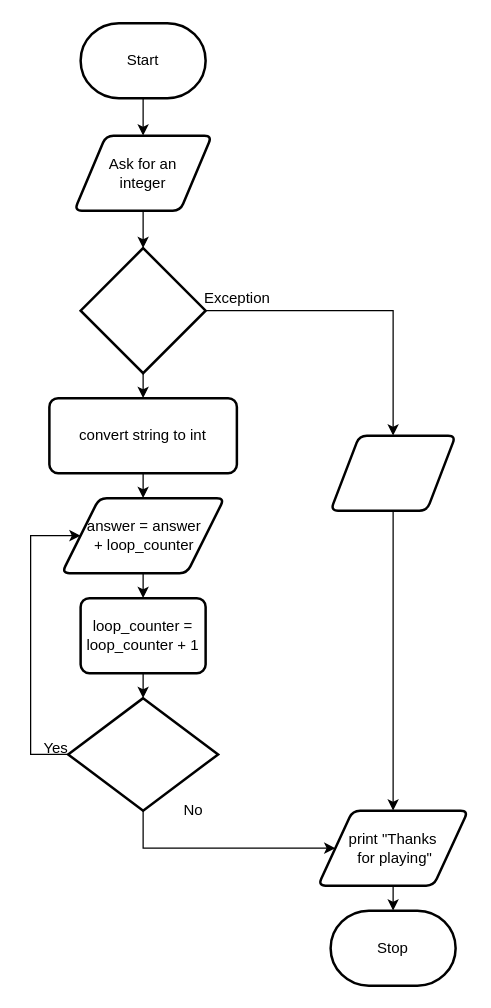
The diagram is 491 pixels wide and 1008 high, and some of its shapes have lost their labels. The box of each missing label's shape, as (x1, y1, x2, y2) in pixels:
print "Invalid integer": (329, 434, 456, 511)
try: (79, 246, 206, 374)
while loop_counter < int_integer: (66, 696, 219, 811)
